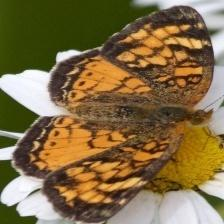butterfly: (13, 7, 214, 222)
